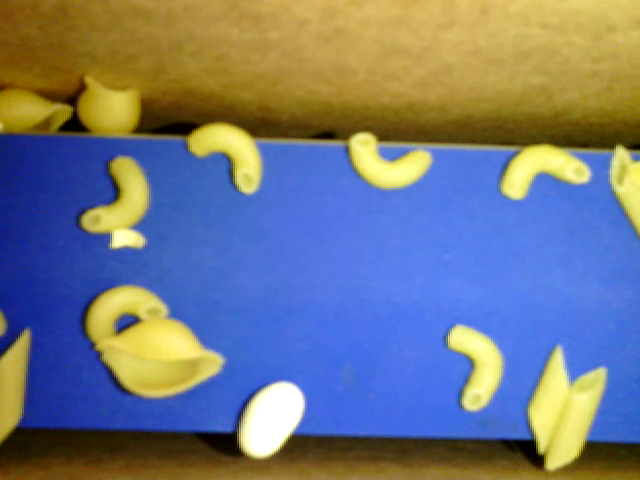elbow: (183, 120, 263, 196), (78, 153, 152, 233), (500, 139, 593, 200), (445, 317, 503, 414), (82, 283, 168, 347), (345, 131, 433, 192)
penne: (542, 362, 612, 470), (524, 344, 571, 452), (1, 322, 30, 450), (605, 140, 639, 234)
shell: (96, 318, 226, 397), (81, 71, 143, 137), (1, 85, 76, 135)
